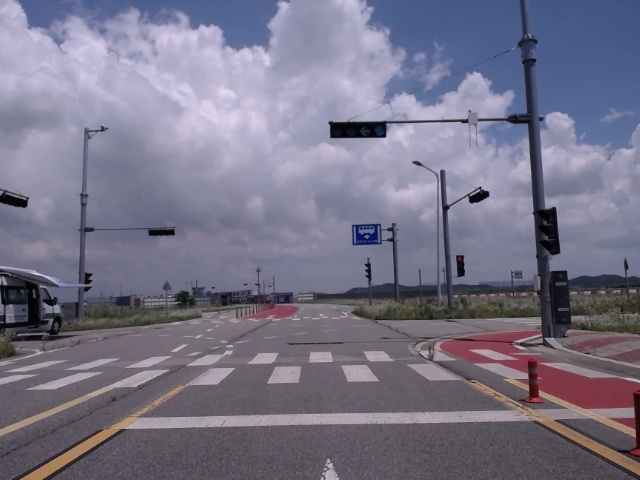all_green_4: (330, 124, 388, 139)
